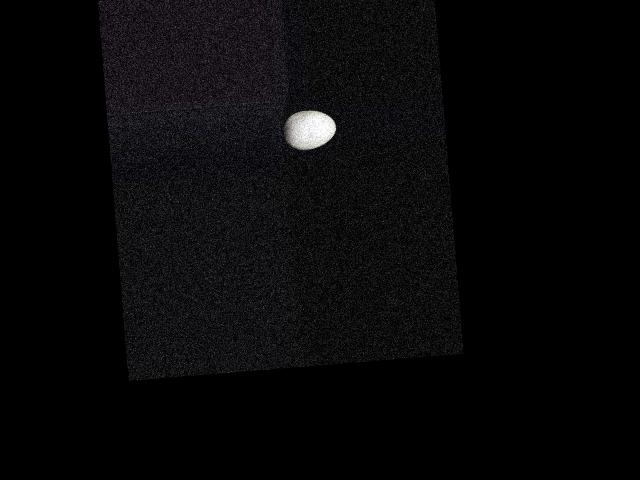egg: (280, 108, 337, 150)
